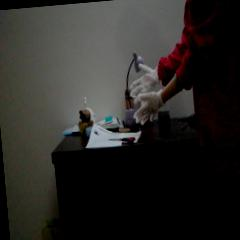gloved: (132, 88, 165, 126), (127, 62, 160, 96)
